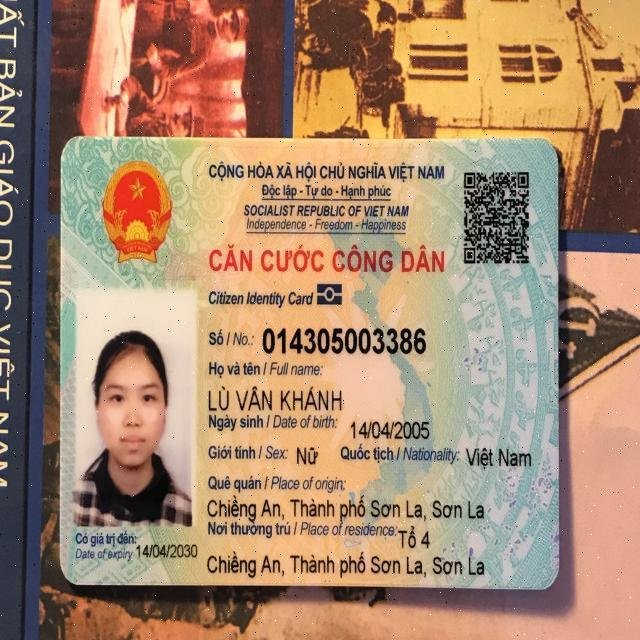current_place: (199, 550, 491, 582), (396, 521, 437, 551)
dob: (349, 418, 435, 441)
expire_date: (137, 543, 203, 560)
gender: (293, 439, 327, 469)
id: (261, 322, 428, 363)
name: (204, 380, 343, 413)
nationality: (459, 434, 534, 473)
origin_place: (199, 493, 491, 526)
